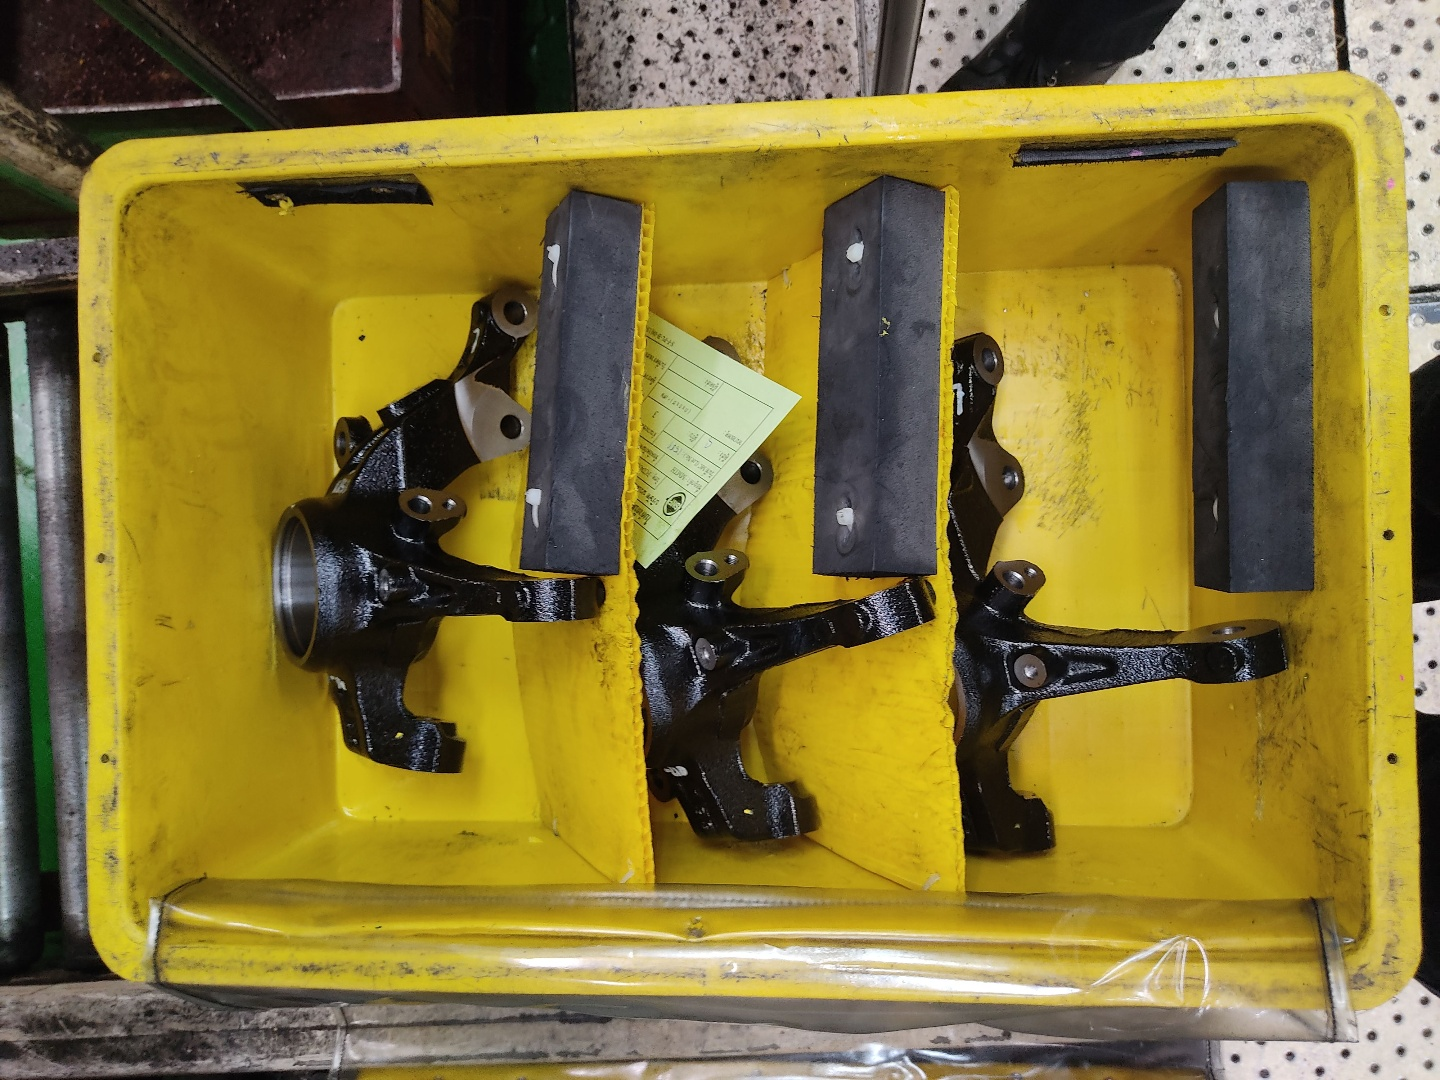abs-lh: (946, 327, 1296, 871), (265, 277, 610, 785), (621, 331, 946, 850)
